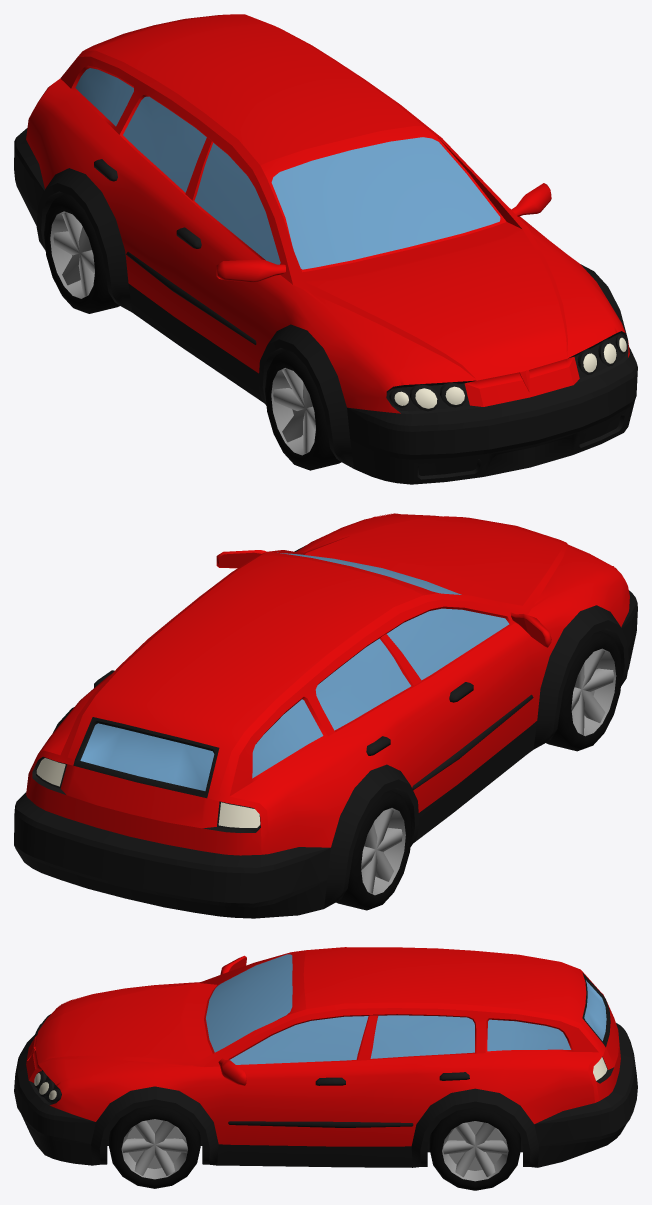
The model's file is Car_B.fbx.
The picture shows the model from 3 angles, top to bottom: view 1: azimuth 30°, elevation 25°; view 2: azimuth 150°, elevation 25°; view 3: azimuth 270°, elevation 25°; orthographic projection. The views are drawn at different scales.
Parts seen in each view (by area): view 1: Car_B, Car_B_Wheel_F_R, Car_B_Wheel_R_R; view 2: Car_B, Car_B_Wheel_F_R, Car_B_Wheel_R_R; view 3: Car_B, Car_B_Wheel_F_L, Car_B_Wheel_R_L.
Boxes of the visible parts, x1=… form: Car_B: x1=14, y1=14, x2=637, y2=484; Car_B_Wheel_F_R: x1=265, y1=350, x2=341, y2=470; Car_B_Wheel_R_R: x1=44, y1=194, x2=119, y2=313; Car_B: x1=14, y1=513, x2=637, y2=918; Car_B_Wheel_F_R: x1=546, y1=631, x2=622, y2=751; Car_B_Wheel_R_R: x1=336, y1=790, x2=412, y2=910; Car_B: x1=14, y1=947, x2=637, y2=1167; Car_B_Wheel_F_L: x1=109, y1=1105, x2=200, y2=1188; Car_B_Wheel_R_L: x1=429, y1=1107, x2=520, y2=1190.
Bounding box in the file's own units: 54.52 × 34.96 × 119.
